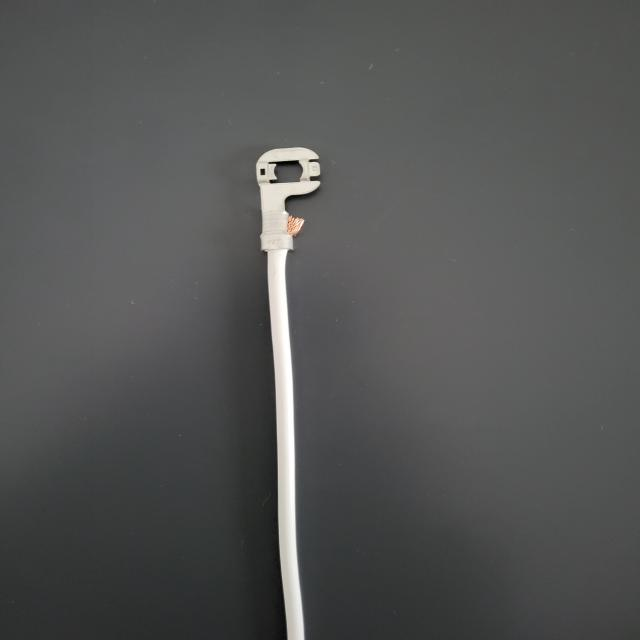defect: (179, 206, 363, 303)
